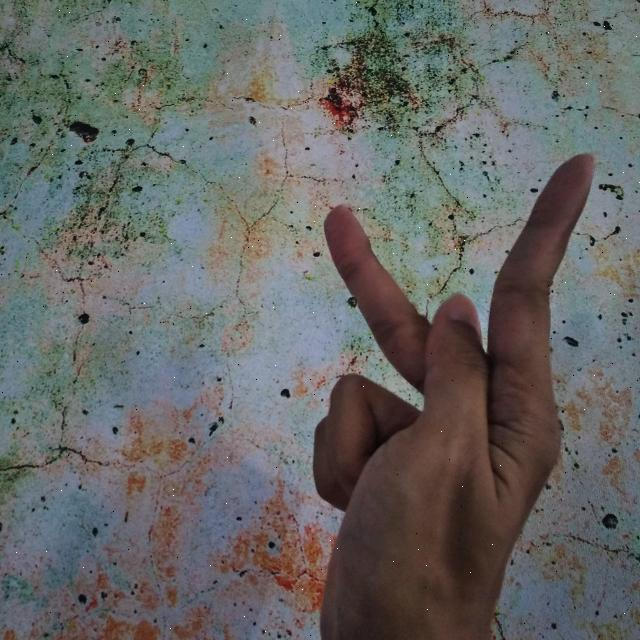K: (310, 150, 600, 640)
